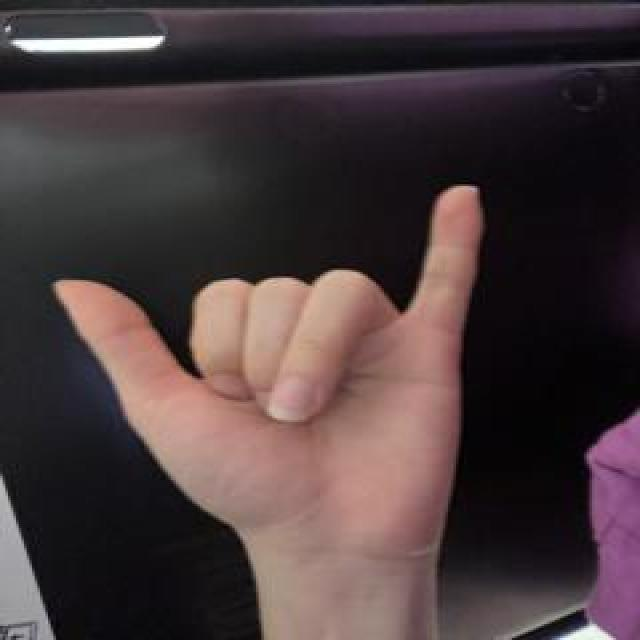Y: (45, 181, 488, 567)
